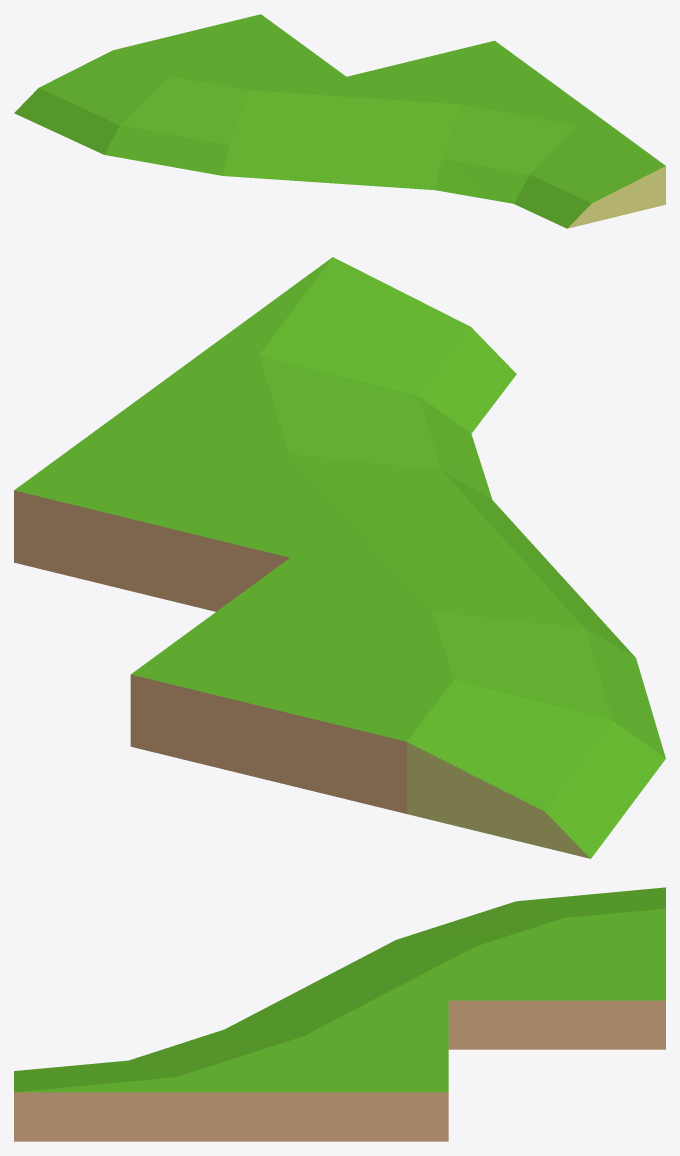
File: Grass_Carpet_Esse_3x3.glb
3 renders of one model, top to bottom at view 1: azimuth 30°, elevation 25°; view 2: azimuth 150°, elevation 25°; view 3: azimuth 270°, elevation 25°, orthographic. The views are drawn at different scales.
Parts seen in each view (by area): view 1: Grass_Carpet_Esse_3x3; view 2: Grass_Carpet_Esse_3x3; view 3: Grass_Carpet_Esse_3x3.
Boxes of the visible parts, box(x1,y1,x2,y2) form: Grass_Carpet_Esse_3x3: box(14, 14, 665, 228); Grass_Carpet_Esse_3x3: box(14, 257, 665, 858); Grass_Carpet_Esse_3x3: box(14, 887, 665, 1141).
Bounding box in the file's own units: 267 × 25 × 300.
